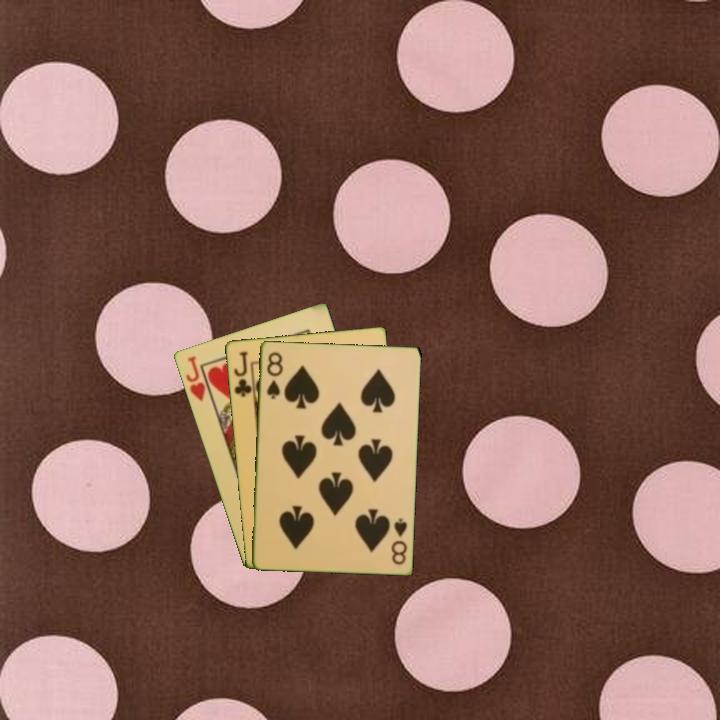8s: (387, 514, 410, 567), (263, 348, 285, 401)
Jc: (230, 348, 254, 400)
Jh: (182, 352, 215, 404)
